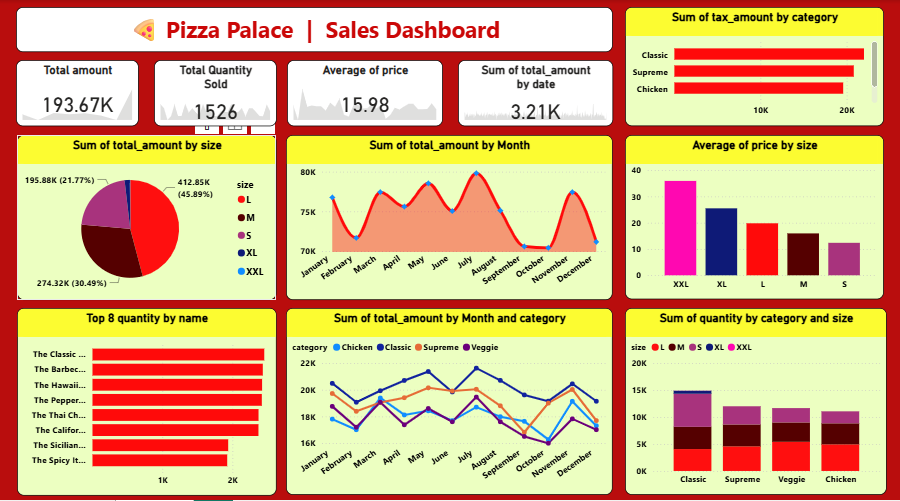

The page's visual inventory and layout, read from the dashboard file:
{"tool":"powerbi","page":{"name":"Page 4","canvas":[1280,720],"ordinal":0},"visuals":[{"type":"clusteredBarChart","title":"Top 8 quantity by name","fields":{"Category":["Pizza_Order_Details.name"],"Y":["Sum(Pizza_Order_Details.quantity)"]},"box":[26.2,441.2,367.5,266.2],"z":0},{"type":"areaChart","fields":{"Category":["Pizza_Order_Details.date.Variation.Date Hierarchy.Month"],"Y":["Sum(Pizza_Order_Details.total_amount)"]},"box":[408.8,195,462.5,233.8],"z":1000},{"type":"columnChart","fields":{"Category":["Pizza_Order_Details.category"],"Series":["Pizza_Order_Details.size"],"Y":["Sum(Pizza_Order_Details.quantity)"]},"box":[888.8,441.2,371.2,265],"z":2000},{"type":"lineChart","fields":{"Category":["Pizza_Order_Details.date.Variation.Date Hierarchy.Month"],"Series":["Pizza_Order_Details.category"],"Y":["Sum(Pizza_Order_Details.total_amount)"]},"box":[408.8,441.2,462.5,265],"z":3000},{"type":"clusteredColumnChart","fields":{"Category":["Pizza_Order_Details.size"],"Y":["Avg(Pizza_Order_Details.price)"]},"box":[889.1,195.4,366.8,232.8],"z":4000},{"type":"pieChart","fields":{"Category":["Pizza_Order_Details.size"],"Y":["Sum(Pizza_Order_Details.total_amount)"]},"box":[26.5,195.4,368,234],"z":5000},{"type":"clusteredBarChart","fields":{"Category":["Pizza_Order_Details.category"],"Y":["Sum(Pizza_Order_Details.tax_amount)"]},"box":[889.1,14.5,366.8,168.9],"z":6000},{"type":"textbox","box":[25.3,14.5,845.7,63.9],"z":7000},{"type":"kpi","title":"Total amount ","fields":{"Indicator":["Sum(Pizza_Order_Details.total_amount)"],"TrendLine":["Pizza_Order_Details.total_amount"]},"box":[25.3,89.3,173.7,94.1],"z":8000},{"type":"kpi","title":"Total Quantity Sold","fields":{"Indicator":["Sum(Pizza_Order_Details.quantity)"],"TrendLine":["Pizza_Order_Details.name"]},"box":[220.8,89.3,173.7,94.1],"z":9000},{"type":"kpi","title":"Average of price","fields":{"Indicator":["Avg(Pizza_Order_Details.price)"],"TrendLine":["Pizza_Order_Details.name"]},"box":[409,89.3,220.8,94.1],"z":10000},{"type":"kpi","fields":{"Indicator":["Sum(Pizza_Order_Details.total_amount)"],"TrendLine":["Pizza_Order_Details.date"]},"box":[651.5,89.3,219.6,94.1],"z":11000}]}

Visuals, with their boxes in screenshot pixels (x1, y1, x2, y2), scaled from the page's 1280x720 canvas onto the 900x501 screenshot:
"Top 8 quantity by name" clusteredBarChart: (x1=18, y1=307, x2=277, y2=492)
areaChart - Pizza_Order_Details.date.Variation.Date Hierarchy.Month x Sum(Pizza_Order_Details.total_amount): (x1=287, y1=136, x2=613, y2=298)
columnChart - Pizza_Order_Details.category x Pizza_Order_Details.size: (x1=625, y1=307, x2=886, y2=491)
lineChart - Pizza_Order_Details.date.Variation.Date Hierarchy.Month x Pizza_Order_Details.category: (x1=287, y1=307, x2=613, y2=491)
clusteredColumnChart - Pizza_Order_Details.size x Avg(Pizza_Order_Details.price): (x1=625, y1=136, x2=883, y2=298)
pieChart - Pizza_Order_Details.size x Sum(Pizza_Order_Details.total_amount): (x1=19, y1=136, x2=277, y2=299)
clusteredBarChart - Pizza_Order_Details.category x Sum(Pizza_Order_Details.tax_amount): (x1=625, y1=10, x2=883, y2=128)
textbox: (x1=18, y1=10, x2=612, y2=55)
"Total amount " kpi: (x1=18, y1=62, x2=140, y2=128)
"Total Quantity Sold" kpi: (x1=155, y1=62, x2=277, y2=128)
"Average of price" kpi: (x1=288, y1=62, x2=443, y2=128)
kpi - Sum(Pizza_Order_Details.total_amount) x Pizza_Order_Details.date: (x1=458, y1=62, x2=612, y2=128)
